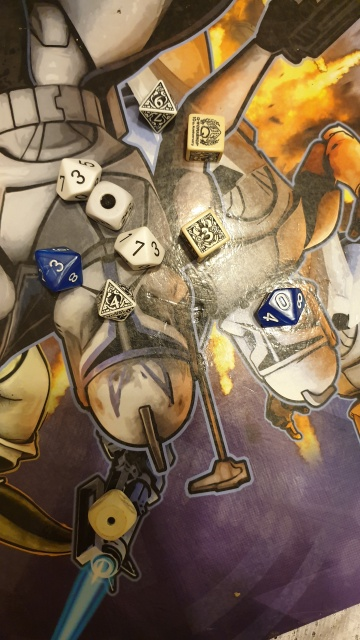d10-10: (252, 282, 310, 333)
d10-3: (49, 154, 105, 204), (32, 242, 76, 290)
d10-7: (111, 224, 164, 273)
d6-1: (88, 486, 134, 542), (87, 178, 130, 230)
d6p-3: (174, 206, 230, 265)
d6p-6: (182, 109, 227, 164)
d8p-4: (90, 277, 140, 326)
d8p-6: (138, 76, 179, 135)
